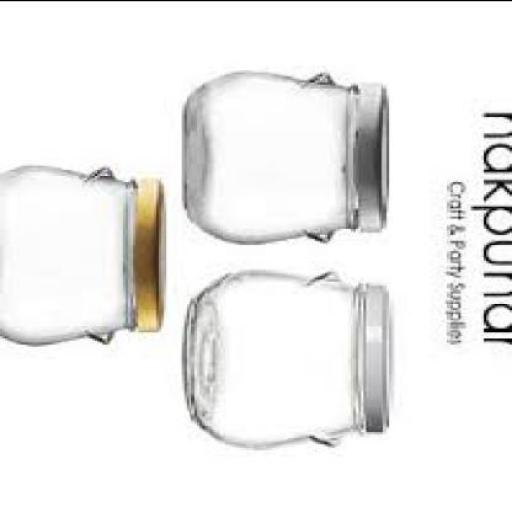glass: (187, 266, 366, 445), (186, 69, 359, 242), (2, 164, 140, 346)
metal: (354, 79, 392, 227), (359, 281, 394, 428), (138, 172, 167, 328)
